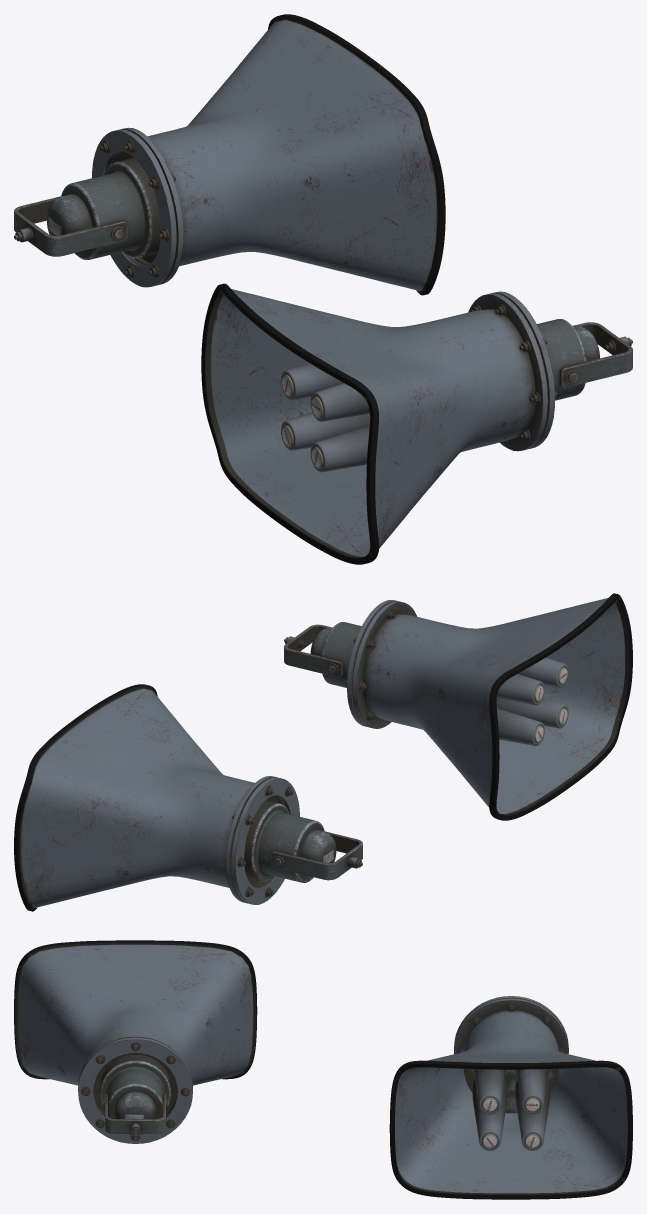
Rendered from loudspeakers_horn_speaker_17_mb.glb.
The picture shows the model from 3 angles, top to bottom: view 1: azimuth 30°, elevation 25°; view 2: azimuth 150°, elevation 25°; view 3: azimuth 270°, elevation 25°; orthographic projection. The views are drawn at different scales.
Parts seen in each view (by area): view 1: 01_1_01_0, 01_01_0, 01_03_0, 01_1_03_0, 01_1_02_0, 01_02_0; view 2: 01_1_01_0, 01_01_0, 01_03_0, 01_1_03_0, 01_1_02_0, 01_02_0; view 3: 01_1_01_0, 01_01_0, 01_1_03_0, 01_03_0, 01_02_0.
Part boxes in pixels (x1,y1,x2,y2): 01_1_01_0: (47, 14, 445, 295); 01_01_0: (201, 283, 599, 564); 01_03_0: (281, 291, 555, 472); 01_1_03_0: (92, 129, 176, 287); 01_1_02_0: (14, 140, 186, 277); 01_02_0: (471, 304, 632, 441); 01_1_01_0: (14, 684, 336, 911); 01_01_0: (310, 593, 632, 820); 01_03_0: (347, 600, 568, 745); 01_1_03_0: (231, 777, 299, 904); 01_1_02_0: (223, 786, 362, 897); 01_02_0: (284, 610, 414, 721); 01_1_01_0: (389, 998, 632, 1199); 01_01_0: (14, 940, 257, 1135); 01_1_03_0: (454, 996, 568, 1150); 01_03_0: (78, 1037, 192, 1143); 01_02_0: (81, 1042, 189, 1141).
Bounding box in the file's own units: 0.8375 × 0.4222 × 1.75.
Materials: 3 (3 with a texture image).
